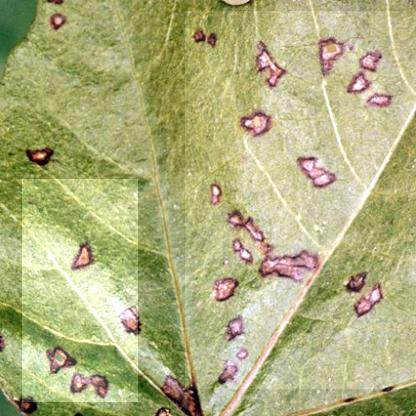black-spot: (185, 11, 416, 389), (22, 179, 138, 402)
